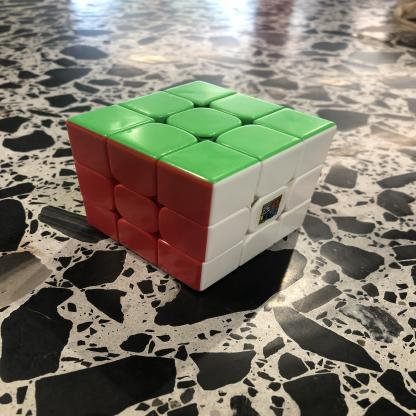SolvedCube: (60, 66, 337, 302)
